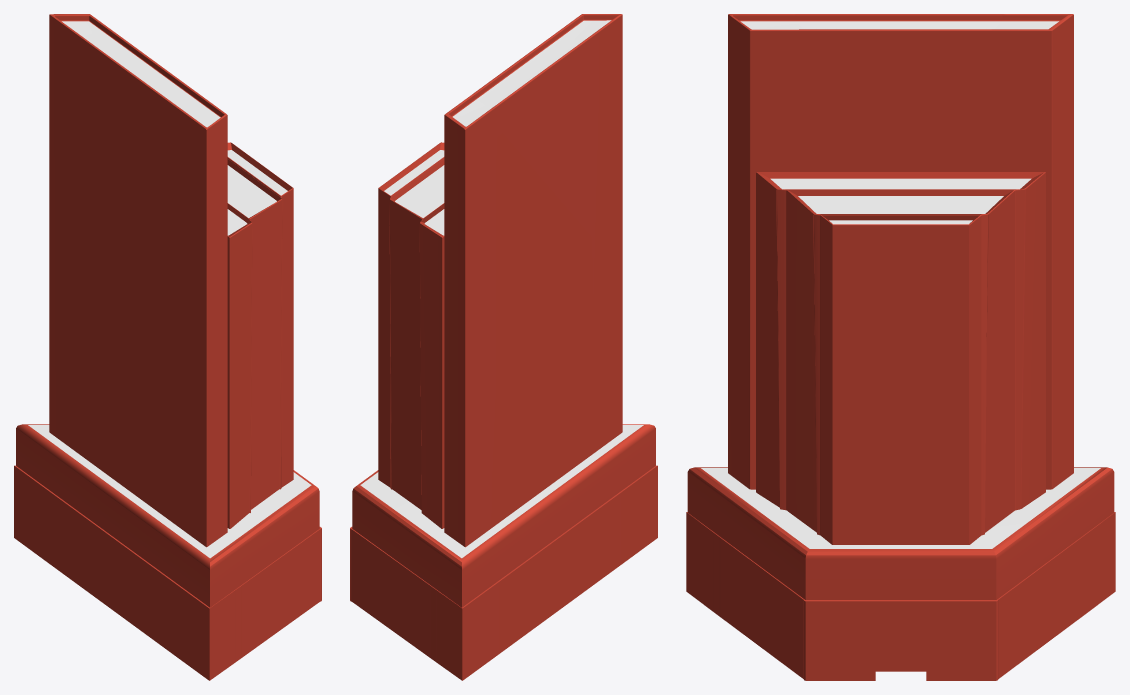
File: Building_25_Red.glb
3 renders of one model, left to right at view 1: azimuth 30°, elevation 25°; view 2: azimuth 150°, elevation 25°; view 3: azimuth 270°, elevation 25°, orthographic. The views are drawn at different scales.
Parts seen in each view (by area): view 1: pCube20; view 2: pCube20; view 3: pCube20.
Boxes of the visible parts, box(x1,y1,x2,y2) form: pCube20: box(14, 14, 321, 680); pCube20: box(350, 14, 657, 680); pCube20: box(686, 14, 1115, 680).
Bounding box in the file's own units: 2369 × 7240 × 4805.
